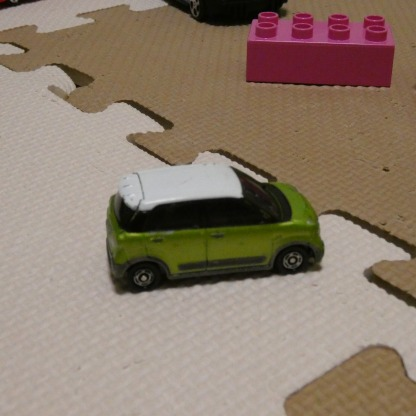car: (105, 164, 325, 292)
